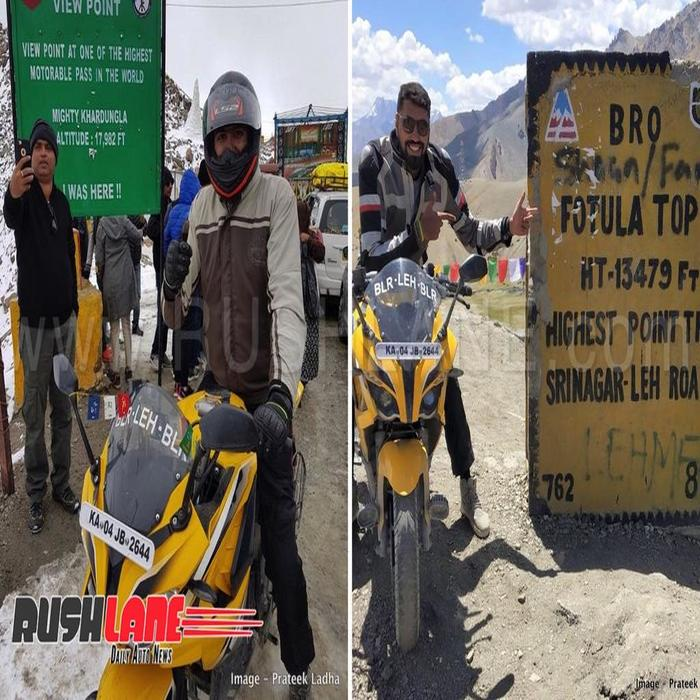h: (201, 69, 267, 200)
n: (78, 499, 158, 574), (373, 342, 443, 360)
